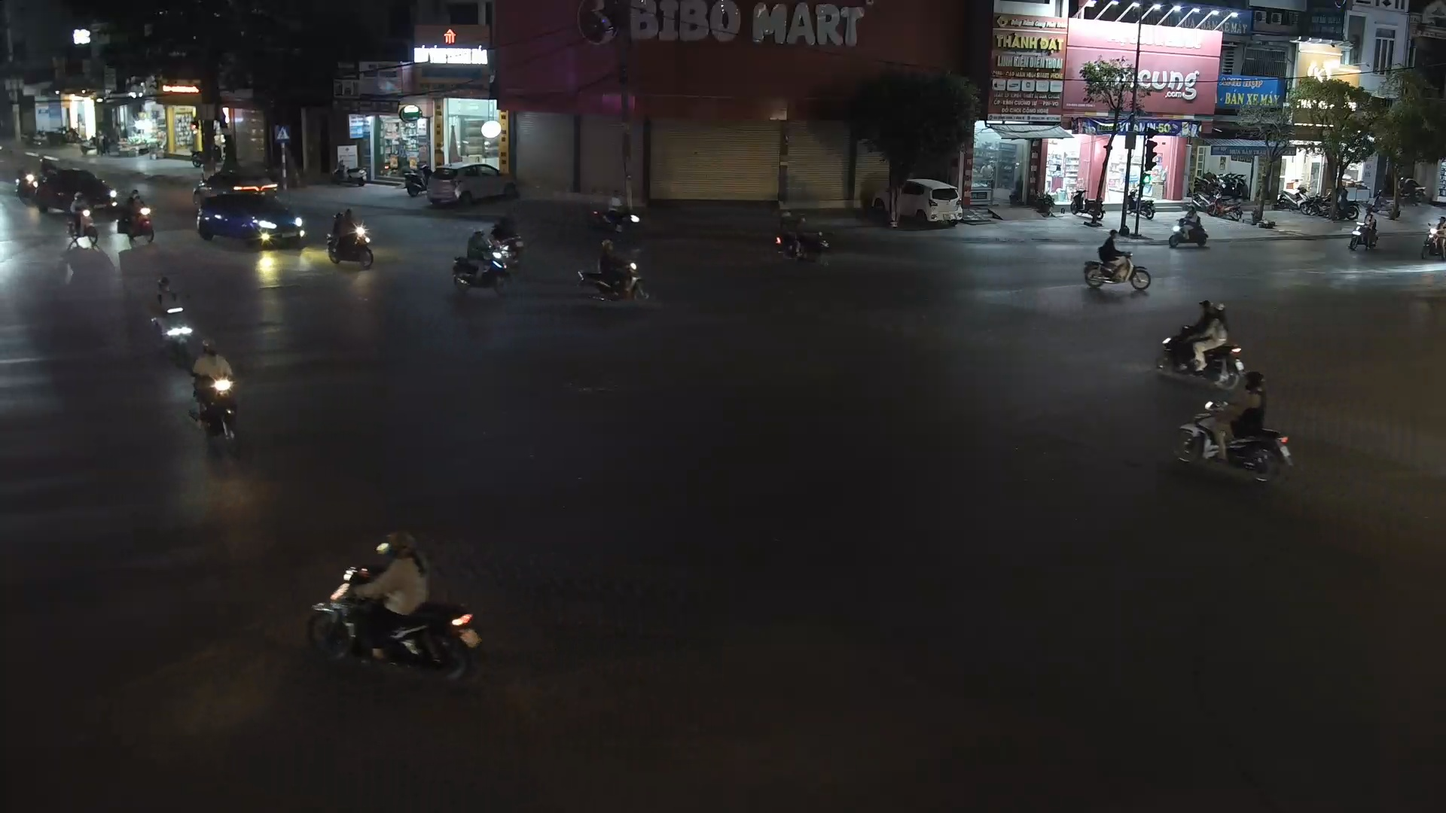car: (194, 181, 308, 249)
motorbike: (305, 528, 483, 687), (1173, 367, 1295, 486), (1156, 296, 1246, 386), (186, 336, 243, 452), (574, 234, 657, 309), (1081, 230, 1153, 296), (148, 273, 197, 364), (449, 228, 512, 295), (325, 205, 377, 270), (489, 215, 524, 272)
